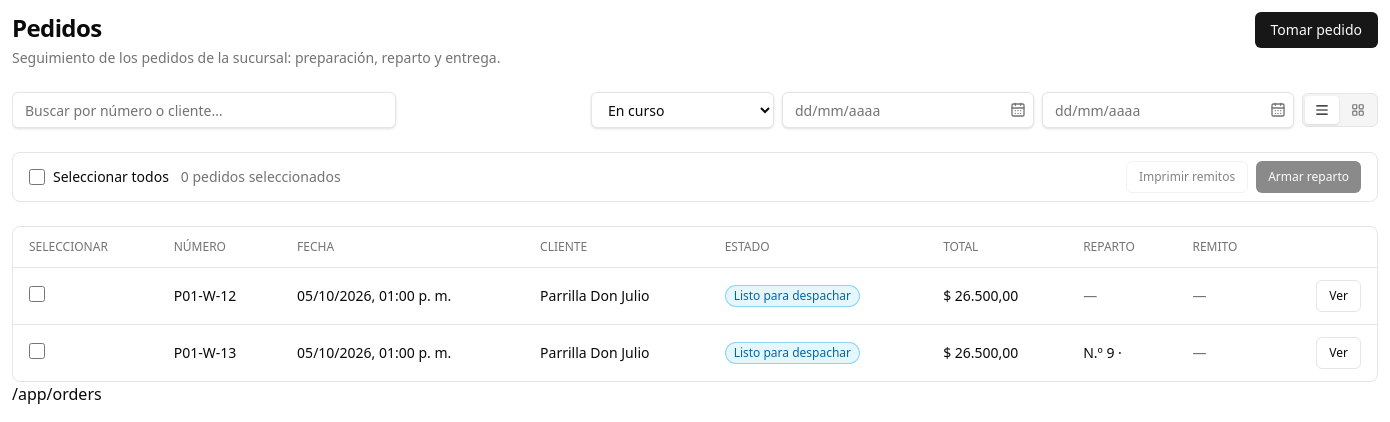
Test case: fulfillment screens › builds a run from the selected orders that can still join one
Click the checkbox named "Seleccionar P01-W-12" at (37, 294), box [29,286,45,302]
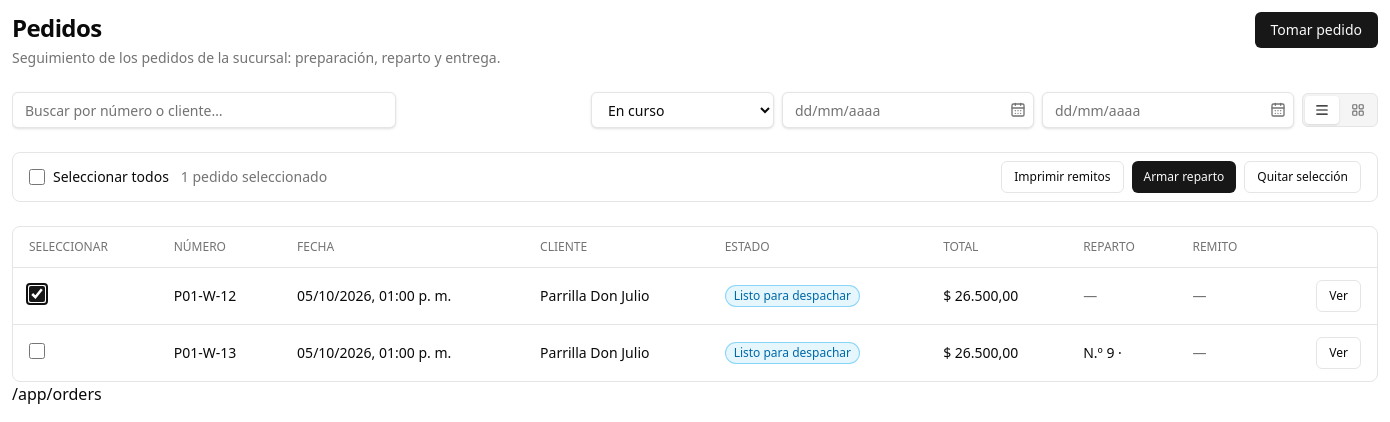
Click the checkbox named "Seleccionar P01-W-13" at (37, 350), box [29,342,45,358]
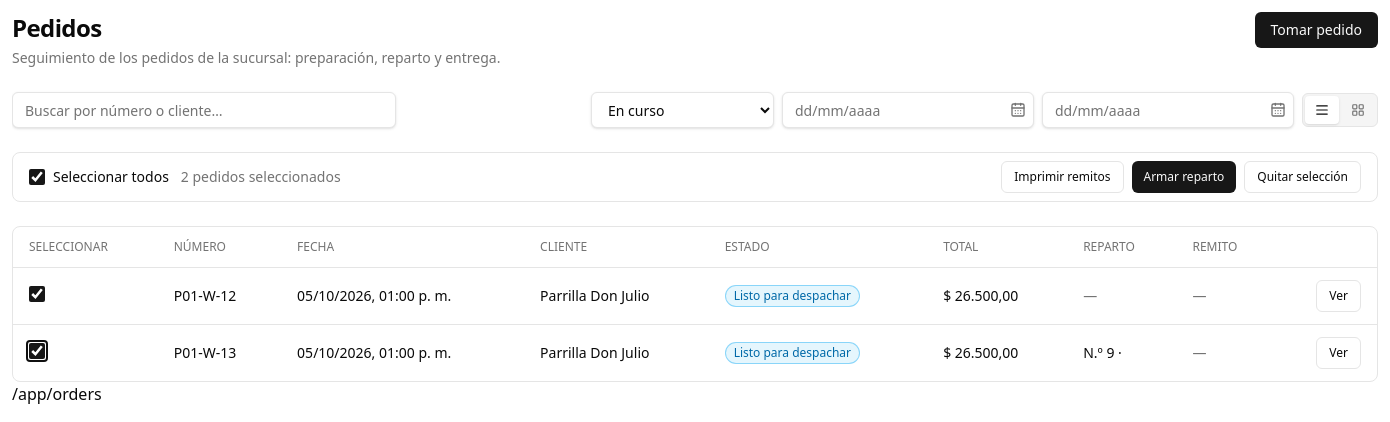
Click the button "Armar reparto" at (1184, 177), box [1132,161,1236,193]
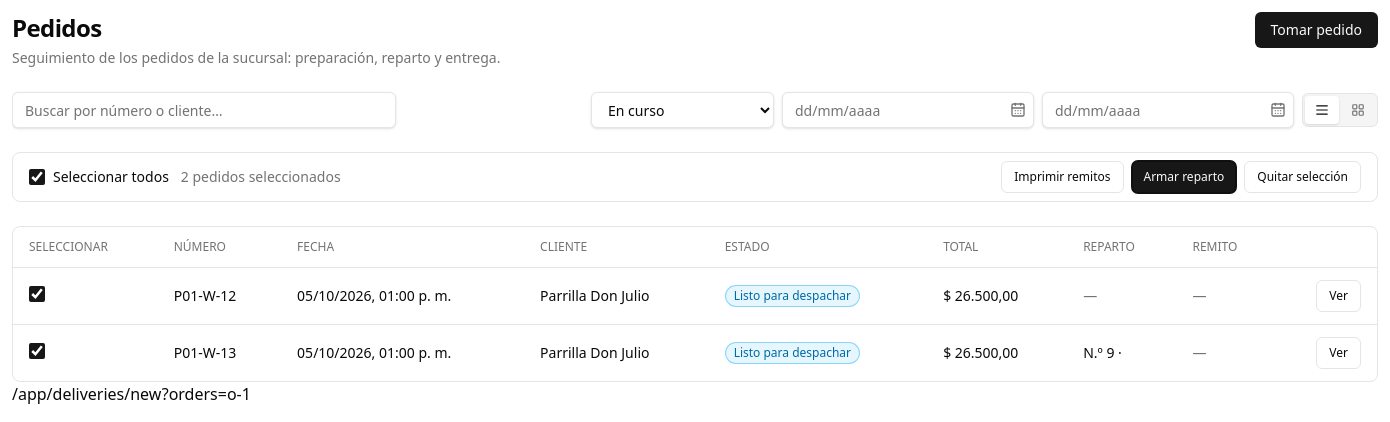
Now the text with test id "location" reads "/app/deliveries/new?orders=o-1", box [12,383,251,405]
